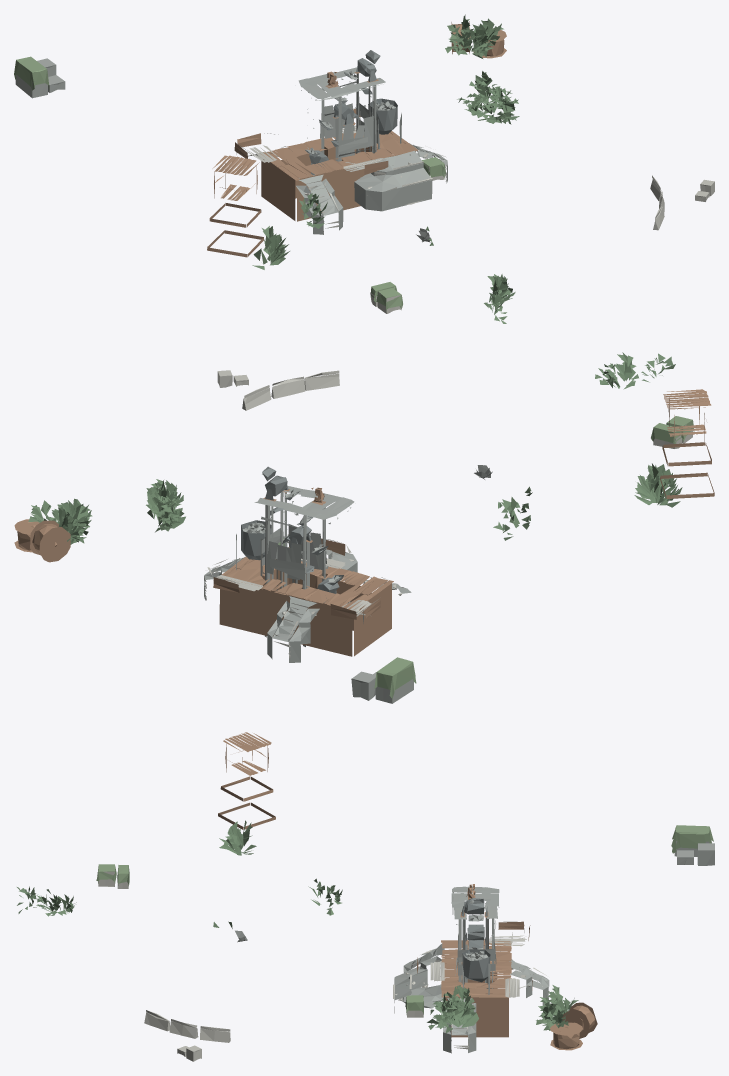
File: mining_quarry_a.glb
3 renders of one model, top to bottom at view 1: azimuth 30°, elevation 25°; view 2: azimuth 150°, elevation 25°; view 3: azimuth 270°, elevation 25°, orthographic. The views are drawn at different scales.
Visible parts, largest first — view 1: retaining_wall_corner_LOD0, retaining_wall_cover_a_LOD0, LOD0, quarry_track_LOD0, wooden_crate_e; view 2: retaining_wall_cover_a_LOD0, retaining_wall_corner_LOD0, LOD0, quarry_track_LOD0, wooden_crate_e; view 3: retaining_wall_corner_LOD0, retaining_wall_cover_a_LOD0, LOD0, wooden_crate_e, quarry_track_LOD0.
Part boxes in pixels (x1,y1,x2,y2): retaining_wall_corner_LOD0: [15, 58, 714, 313]; retaining_wall_cover_a_LOD0: [207, 21, 506, 257]; LOD0: [252, 14, 519, 323]; quarry_track_LOD0: [299, 50, 397, 178]; wooden_crate_e: [14, 56, 445, 311]; retaining_wall_cover_a_LOD0: [14, 389, 714, 656]; retaining_wall_corner_LOD0: [204, 370, 692, 703]; LOD0: [28, 352, 682, 544]; quarry_track_LOD0: [241, 466, 351, 602]; wooden_crate_e: [278, 416, 694, 698]; retaining_wall_corner_LOD0: [98, 841, 714, 1061]; retaining_wall_cover_a_LOD0: [218, 732, 597, 1050]; LOD0: [17, 820, 578, 1033]; wooden_crate_e: [96, 825, 713, 1014]; quarry_track_LOD0: [461, 898, 490, 982].
Bounding box in the file's own units: 47.34 × 17.17 × 63.08.
